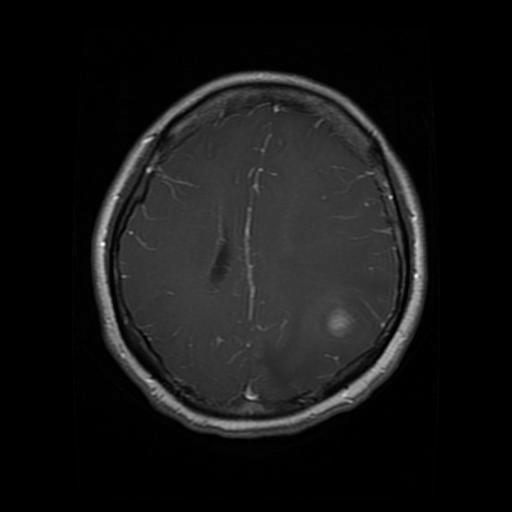Tumour-Glioma: (320, 307, 392, 356)
